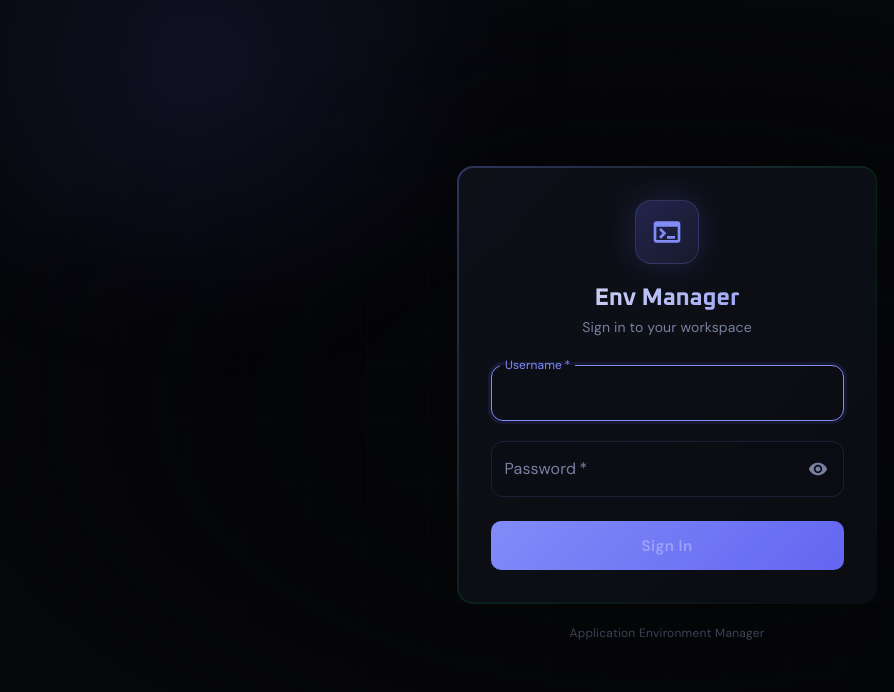
Test: Login page › shows error alert on failed login
This screenshot has width=894, height=692.
Type "admin" into the field labelled "Username *" at (667, 393), box [490, 365, 844, 421]
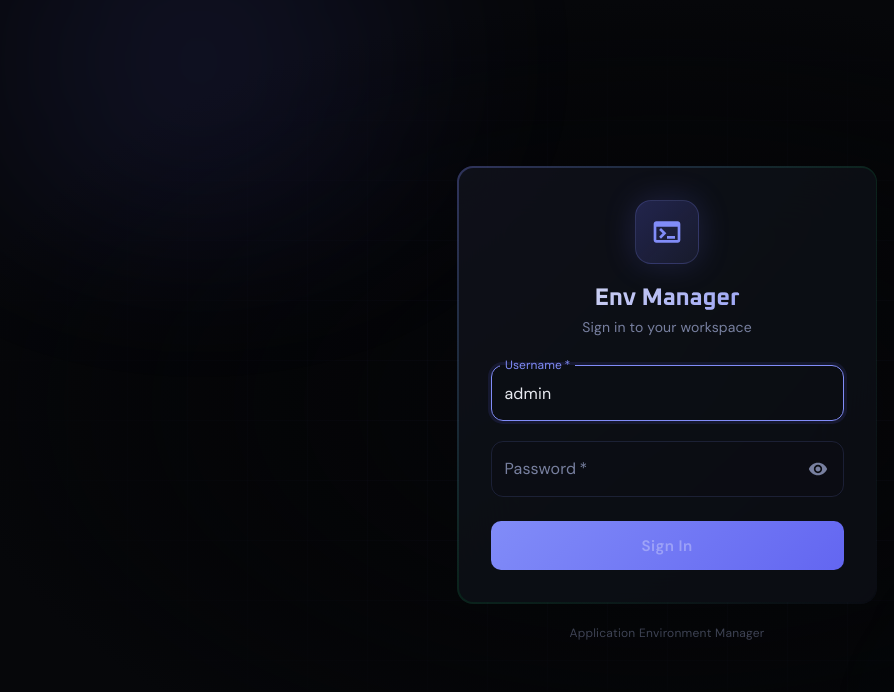
Type "wrong" into the password field labelled "Password *" at (642, 469), box [490, 441, 794, 497]
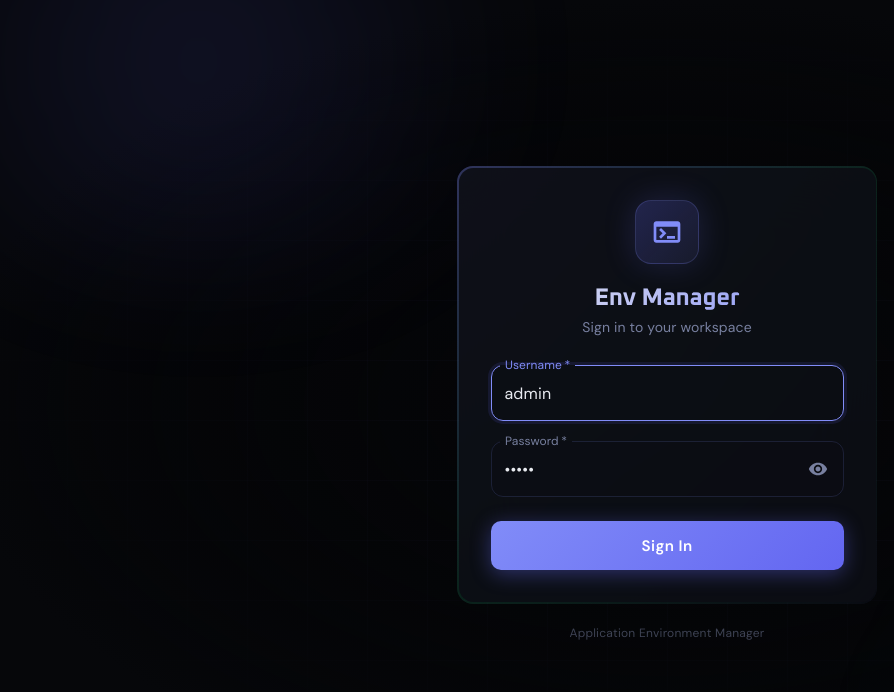
Click the button "Sign In" at (667, 546), box [490, 521, 844, 570]
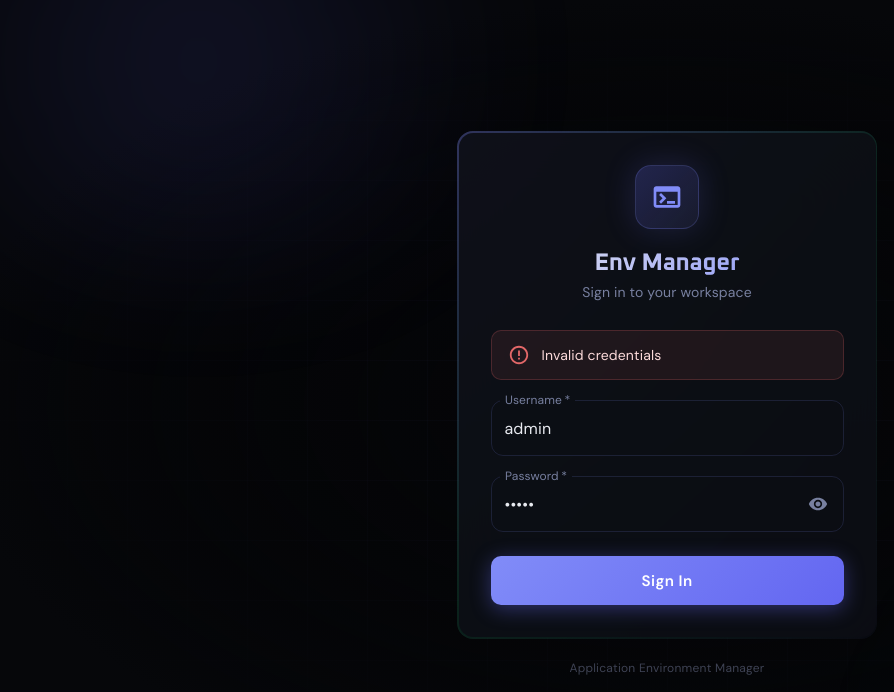
Now the text "Invalid credentials" is shown, box [542, 346, 661, 364]
